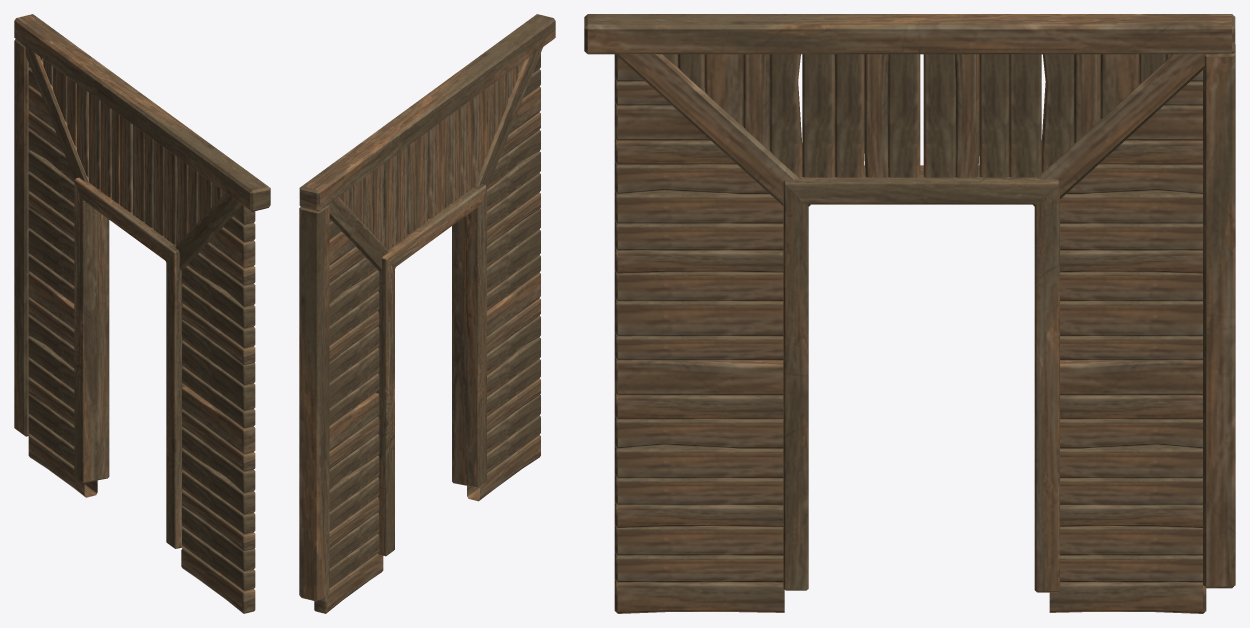
Rendered from SM_wall_wood_07.fbx.
3 views of the same model, side by side, from view 1: azimuth 30°, elevation 25°; view 2: azimuth 150°, elevation 25°; view 3: azimuth 270°, elevation 25° (orthographic). The views are drawn at different scales.
Visible parts, largest first — view 1: SM_wall_wood_07_LOD0; view 2: SM_wall_wood_07_LOD0; view 3: SM_wall_wood_07_LOD0.
Part boxes in pixels (<box>): SM_wall_wood_07_LOD0: <box>14,14,270,613</box>; SM_wall_wood_07_LOD0: <box>299,14,555,613</box>; SM_wall_wood_07_LOD0: <box>584,14,1235,613</box>.
Size of the model in its own units: 26.73 by 400 by 401.
Materials: 1 (1 with a texture image).
